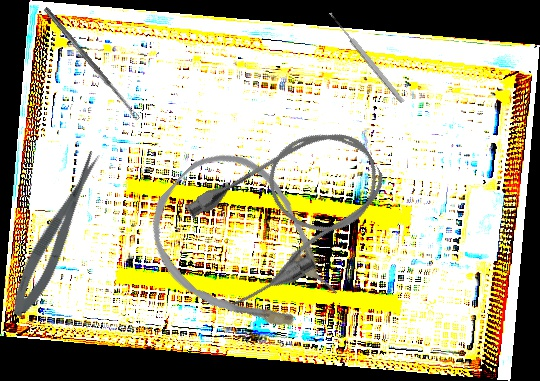Cannula: (125, 130, 364, 368), (175, 107, 406, 316)
Micro Scissor: (2, 147, 112, 322)
Surgical Spoon: (42, 6, 141, 122), (327, 10, 406, 105)
